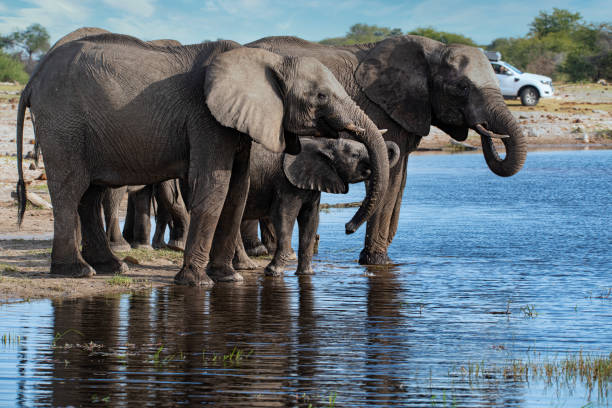africanelephant: (232, 53, 393, 164), (418, 42, 526, 158)
